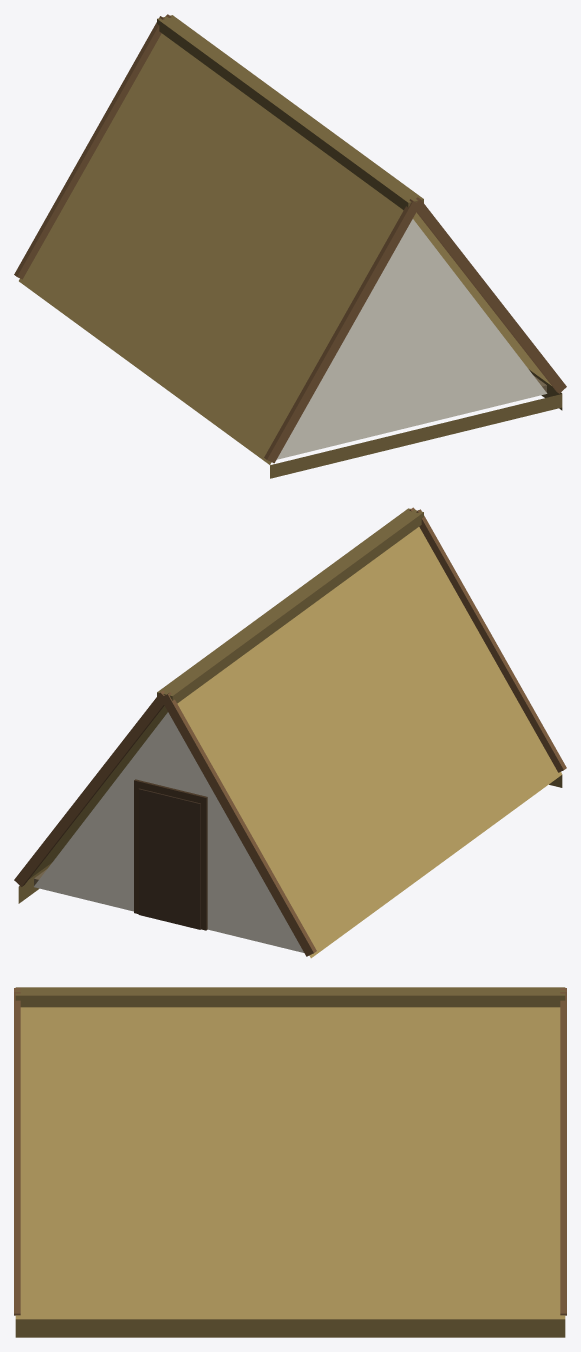
Rendered from lyokh.glb.
3 views of the same model, one above another, from view 1: azimuth 30°, elevation 25°; view 2: azimuth 150°, elevation 25°; view 3: azimuth 270°, elevation 25° (orthographic). The views are drawn at different scales.
Visible parts, largest first — view 1: roof_west, gable_s, barge (×3), ridge, eave_s, roof_east; view 2: roof_west, gable_n, barge (×3), door_leaf, ridge, door_frame, roof_east; view 3: roof_east, ridge, eave_e, barge (×2).
Boxes of the visible parts, left/top/right/bottom form: roof_west: left=19, top=33, right=403, bottom=464; gable_s: left=277, top=219, right=547, bottom=459; barge (×3): left=14, top=16, right=566, bottom=463; ridge: left=157, top=15, right=423, bottom=210; eave_s: left=270, top=394, right=562, bottom=478; roof_east: left=413, top=212, right=561, bottom=392; roof_west: left=177, top=527, right=562, bottom=958; gable_n: left=34, top=712, right=303, bottom=952; barge (×3): left=14, top=509, right=566, bottom=956; door_leaf: left=138, top=788, right=200, bottom=929; ridge: left=157, top=508, right=423, bottom=703; door_frame: left=134, top=779, right=207, bottom=930; roof_east: left=19, top=706, right=167, bottom=886; roof_east: left=15, top=1007, right=565, bottom=1319; ridge: left=15, top=987, right=565, bottom=1007; eave_e: left=15, top=1319, right=565, bottom=1337; barge (×2): left=14, top=992, right=566, bottom=1315.
Bounding box in the file's own units: 4.62 × 3.63 × 6.74.
